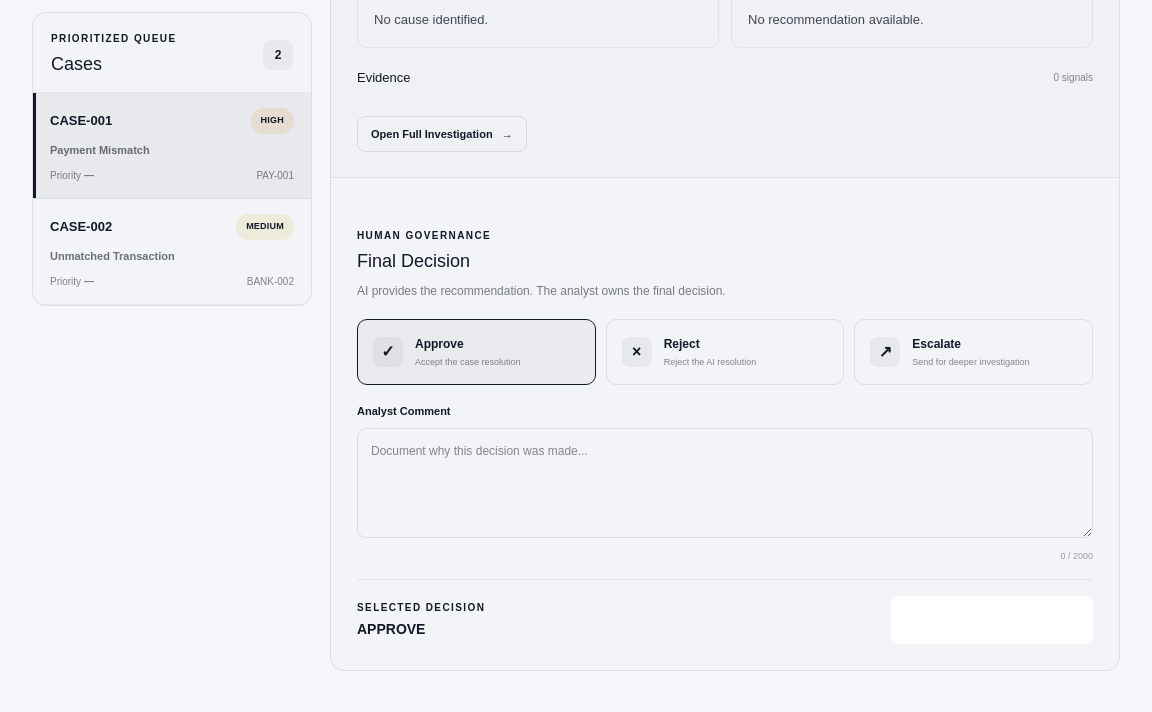
Review › changes reviewer decision
(page scrolled)
Check: the button "CASE-001 HIGH Payment Mismatch Priority — PAY-001" is shown, box [33,93,311,199]
Click the button "× Reject Reject the AI resolution". click: (725, 352)
box: [606,319,844,385]
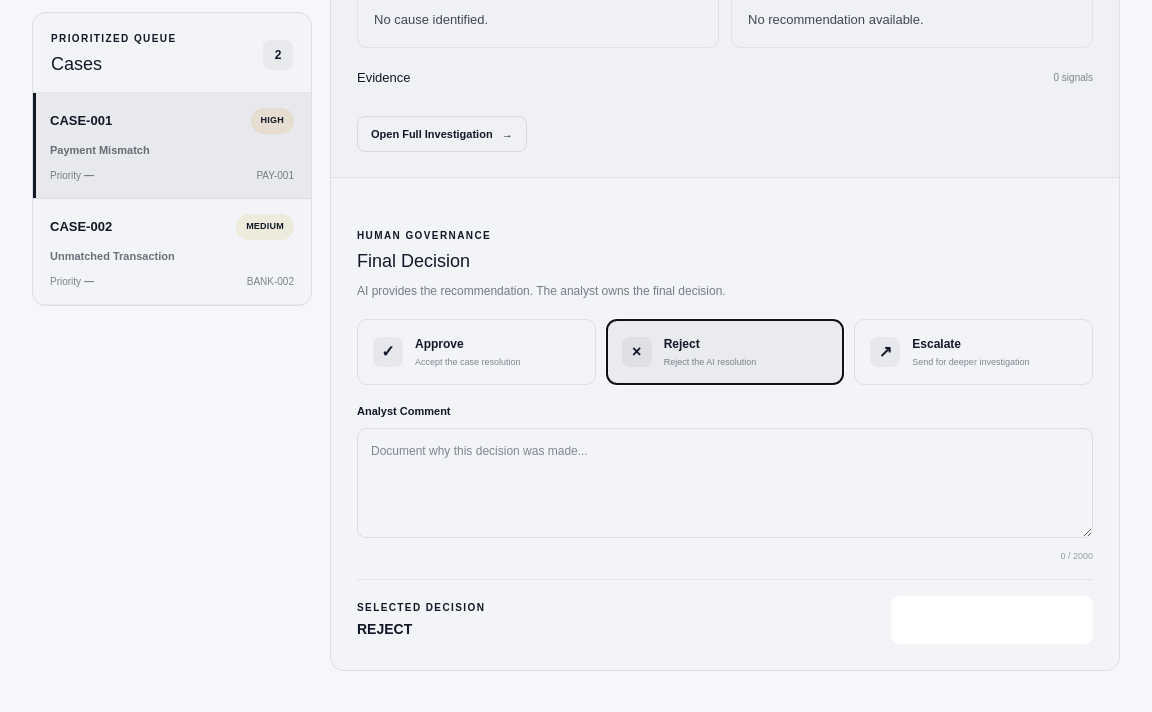
Check: the text "REJECT" is shown, box [357,621,412,637]
